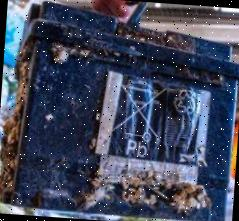electronic: (7, 0, 239, 221)
